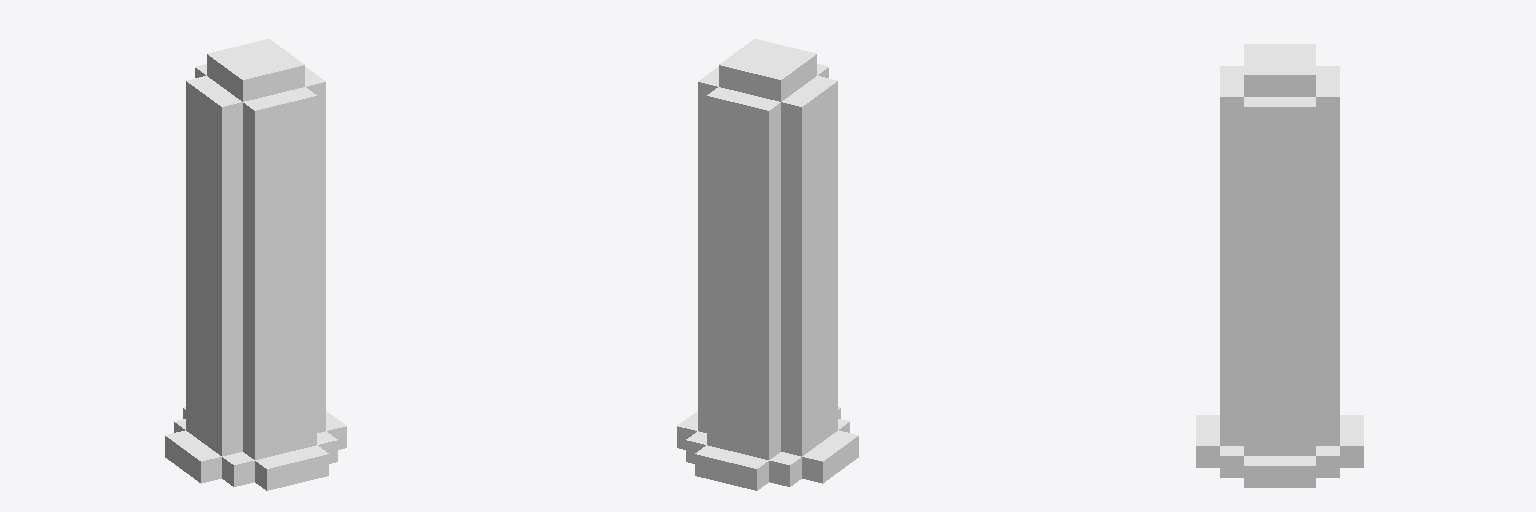
Rendered from bala.obj.
The picture shows the model from 3 angles: view 1: azimuth 30°, elevation 25°; view 2: azimuth 150°, elevation 25°; view 3: azimuth 270°, elevation 25°; orthographic projection.
Parts seen in each view (by area): view 1: object 1; view 2: object 1; view 3: object 1.
Boxes of the visible parts, x1,y1,x2,y2 form: object 1: [165, 39, 346, 490]; object 1: [677, 39, 858, 490]; object 1: [1196, 44, 1363, 487].
Bounding box in the file's own units: 0.7 × 1.8 × 0.7.